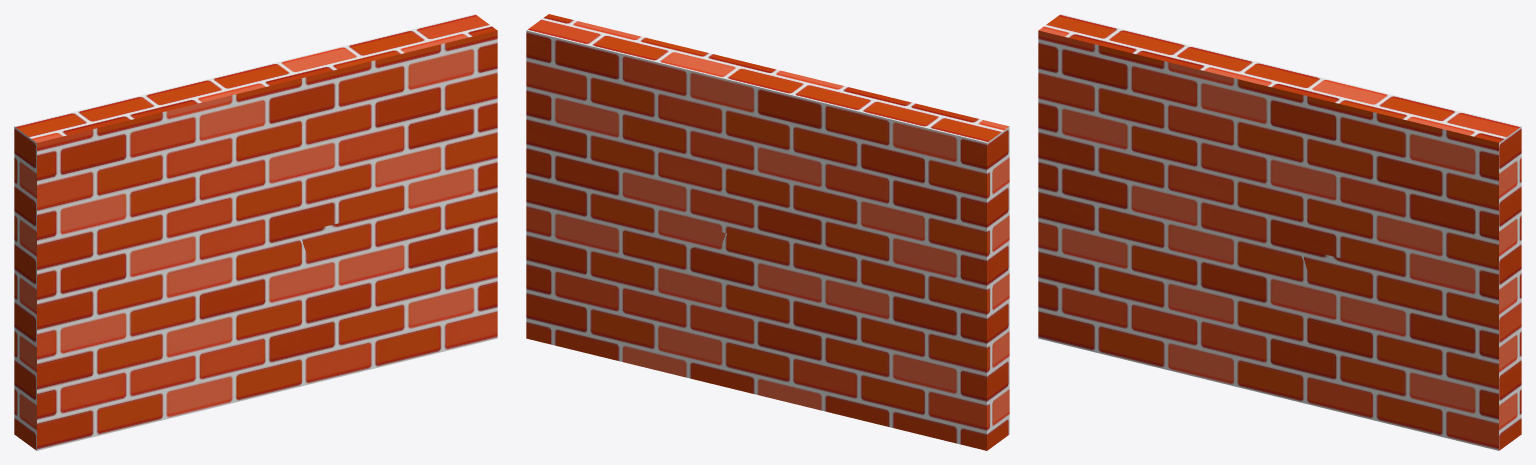
Rendered from Wall_brick_broken_model.FBX.
3 renders of one model, left to right at view 1: azimuth 30°, elevation 25°; view 2: azimuth 150°, elevation 25°; view 3: azimuth 330°, elevation 25°, orthographic.
Parts seen in each view (by area): view 1: Object009, Object002, Box001, Object003, Object007, Object006, Object001, Object035, Object025, Object015, Object030, Object014 (+19 smaller); view 2: Object009, Object002, Box001, Object003, Object007, Object006, Object001, Object035, Object025, Object015, Object030, Object014 (+19 smaller); view 3: Object009, Box001, Object002, Object007, Object003, Object006, Object001, Object035, Object025, Object015, Object030, Object014 (+19 smaller).
Part boxes in pixels (x1,y1,x2,y2): Object009: [14, 304, 281, 450]; Object002: [14, 98, 151, 296]; Box001: [382, 184, 497, 366]; Object003: [14, 192, 166, 373]; Object007: [360, 14, 497, 183]; Object006: [302, 42, 439, 152]; Object001: [130, 70, 266, 191]; Object035: [152, 157, 209, 303]; Object025: [310, 121, 439, 208]; Object015: [268, 288, 389, 394]; Object030: [229, 87, 276, 256]; Object014: [267, 288, 388, 394]; Object009: [742, 304, 1009, 450]; Object002: [872, 98, 1009, 296]; Box001: [526, 184, 641, 366]; Object003: [857, 192, 1009, 373]; Object007: [526, 14, 663, 183]; Object006: [584, 42, 721, 152]; Object001: [757, 70, 893, 191]; Object035: [814, 157, 871, 303]; Object025: [584, 121, 713, 208]; Object015: [634, 288, 755, 394]; Object030: [747, 87, 794, 256]; Object014: [635, 288, 756, 394]; Object009: [1038, 254, 1282, 394]; Box001: [1384, 272, 1521, 450]; Object002: [1038, 14, 1175, 184]; Object007: [1384, 98, 1521, 296]; Object003: [1038, 135, 1167, 261]; Object006: [1312, 84, 1440, 205]; Object001: [1153, 42, 1290, 135]; Object035: [1153, 119, 1210, 254]; Object025: [1312, 174, 1440, 271]; Object015: [1269, 348, 1390, 422]; Object030: [1230, 87, 1278, 248]; Object014: [1269, 321, 1390, 394].
Bounding box in the file's own units: 162 × 104 × 13.72.
